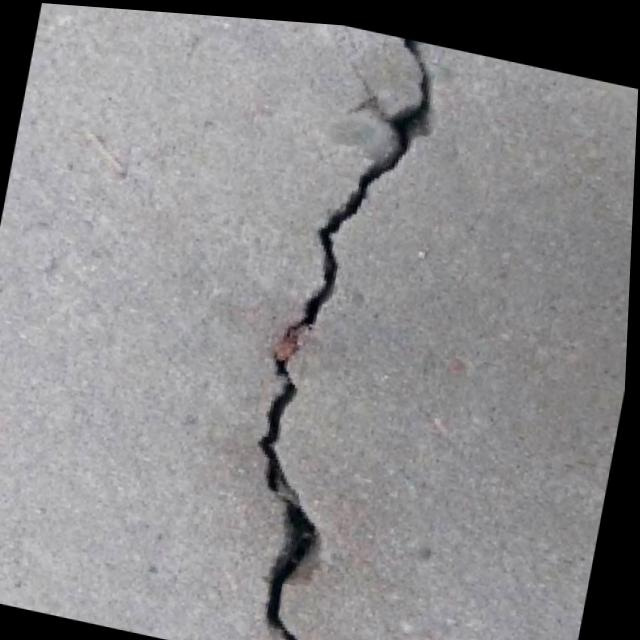Crack: (182, 12, 509, 640)
